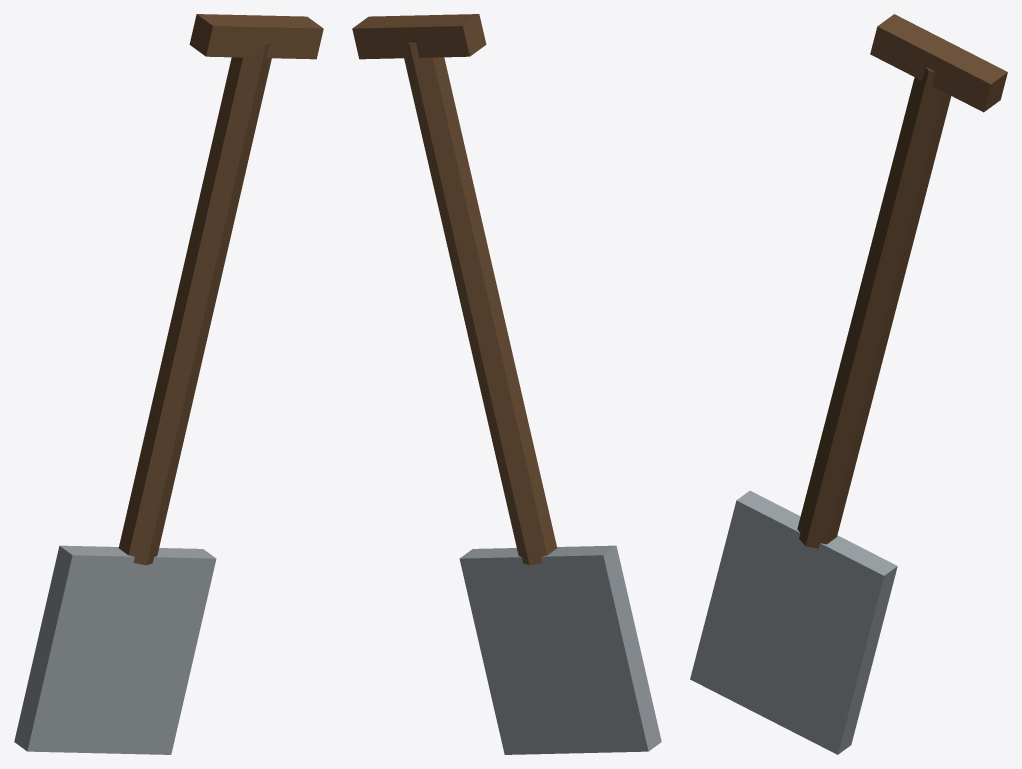
File: Shovel.glb
3 views of the same model, side by side, from view 1: azimuth 30°, elevation 25°; view 2: azimuth 150°, elevation 25°; view 3: azimuth 330°, elevation 25° (orthographic). The views are drawn at different scales.
Parts seen in each view (by area): view 1: Shovel; view 2: Shovel; view 3: Shovel.
Boxes of the visible parts, x1,y1,x2,y2 form: Shovel: (14,14,323,754); Shovel: (352,14,661,754); Shovel: (690,14,1007,754).
Bounding box in the file's own units: 0.516 × 1.21 × 0.06.
Materials: 1 (1 with a texture image).
